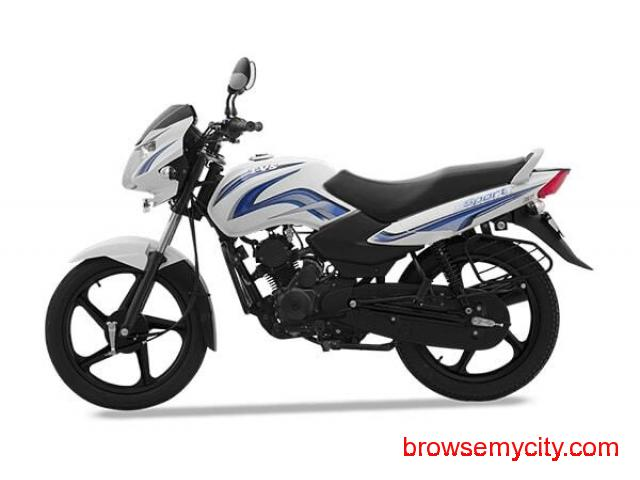bike: (38, 50, 587, 429)
